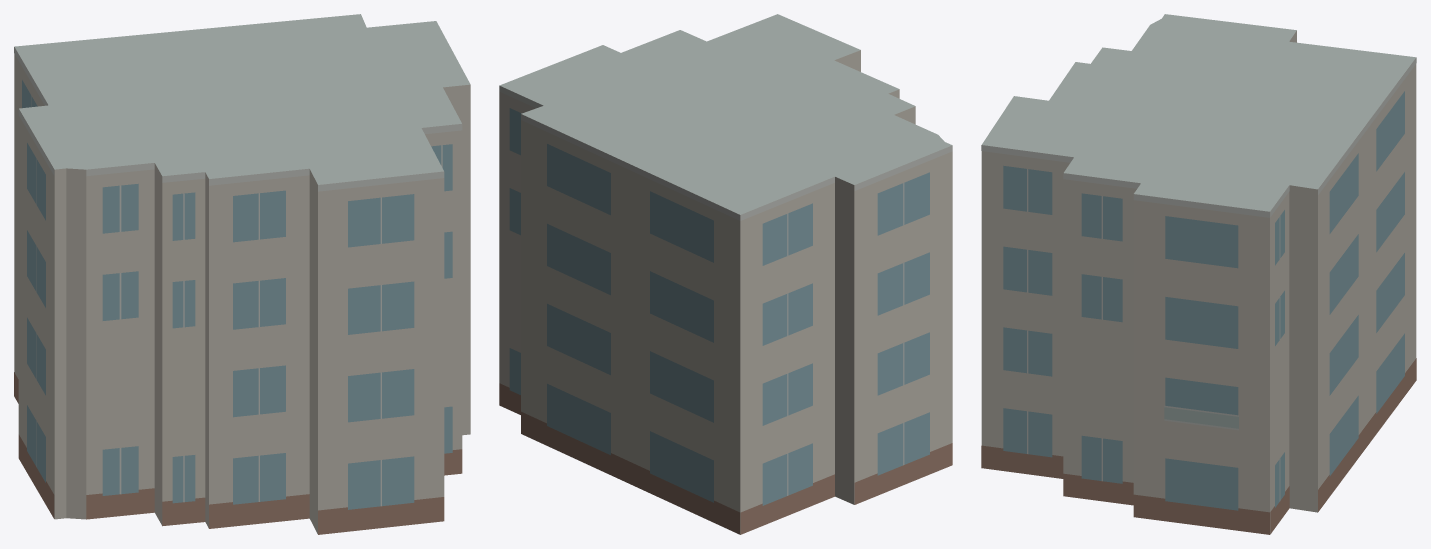
Rendered from survey-upis-32672172.glb.
3 renders of one model, left to right at view 1: azimuth 30°, elevation 25°; view 2: azimuth 150°, elevation 25°; view 3: azimuth 270°, elevation 25°, orthographic. The views are drawn at different scales.
Parts seen in each view (by area): view 1: survey-upis-32672172.tmp; view 2: survey-upis-32672172.tmp; view 3: survey-upis-32672172.tmp.
Part boxes in pixels (x1,y1,x2,y2): survey-upis-32672172.tmp: (14,14,470,534); survey-upis-32672172.tmp: (499,14,952,534); survey-upis-32672172.tmp: (981,14,1416,534).
Bounding box in the file's own units: 16.94 × 12.9 × 15.75.
